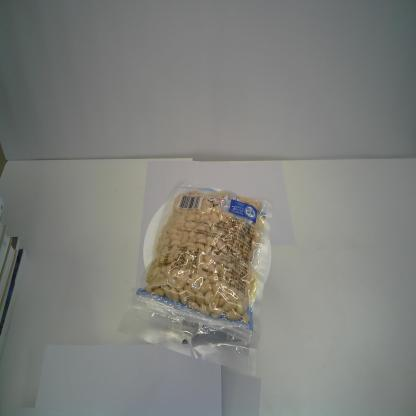Dried Fruit: (115, 176, 275, 382)
